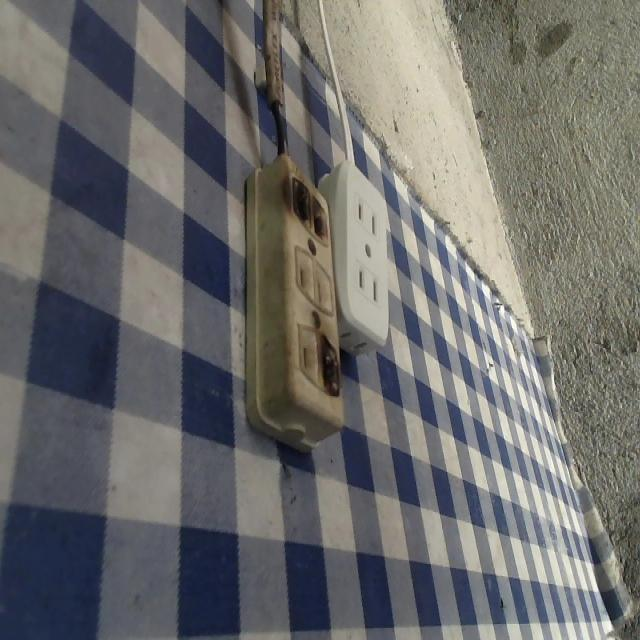-: (285, 171, 333, 237), (314, 332, 346, 405)
